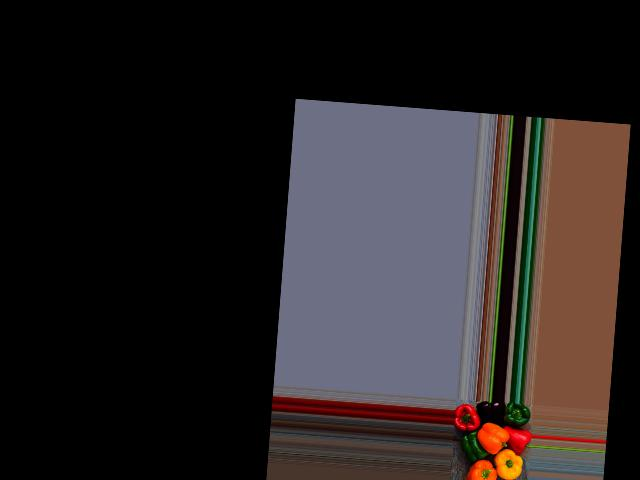bell_pepper: (459, 451, 497, 479)
